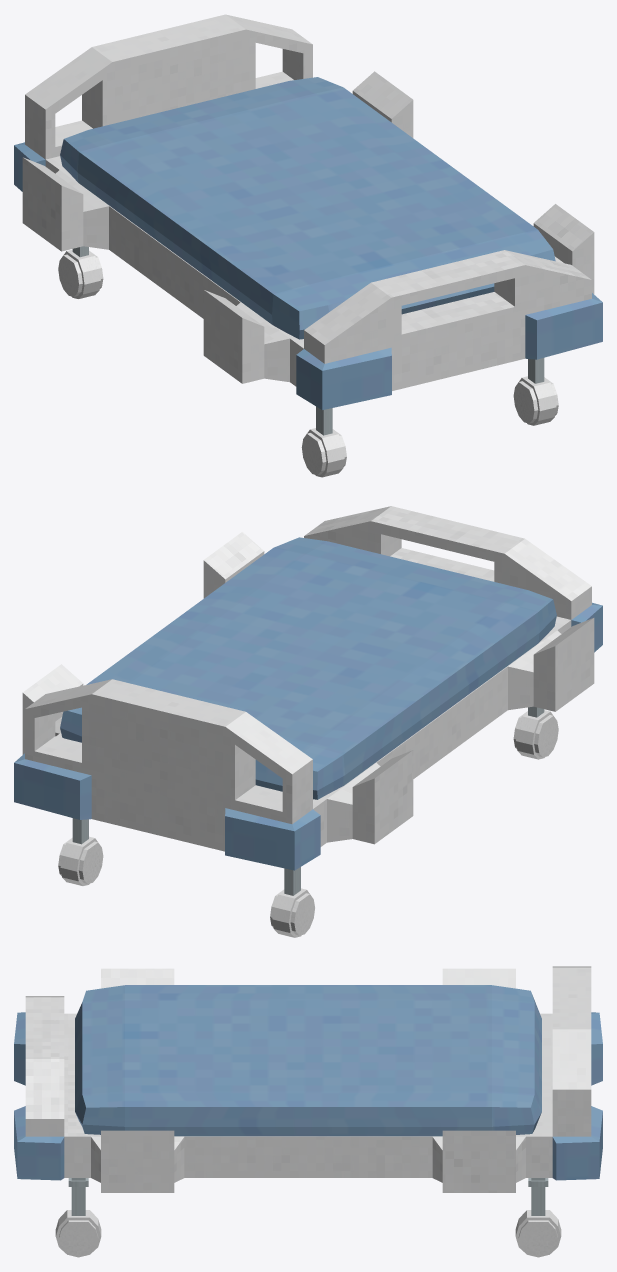
The model's file is HospitalBed.fbx.
3 renders of one model, top to bottom at view 1: azimuth 30°, elevation 25°; view 2: azimuth 150°, elevation 25°; view 3: azimuth 270°, elevation 25°, orthographic. The views are drawn at different scales.
Visible parts, largest first — view 1: HospitalBedBlue, Cube.004, Cylinder.049; view 2: HospitalBedBlue, Cube.004, Cylinder.049; view 3: Cube.004, HospitalBedBlue, Cylinder.049.
Boxes of the visible parts, x1,y1,x2,y2 form: HospitalBedBlue: [14, 14, 602, 409]; Cube.004: [60, 77, 555, 339]; Cylinder.049: [58, 246, 558, 477]; HospitalBedBlue: [14, 506, 602, 870]; Cube.004: [60, 537, 556, 799]; Cylinder.049: [58, 706, 558, 937]; Cube.004: [75, 985, 541, 1136]; HospitalBedBlue: [14, 966, 602, 1192]; Cylinder.049: [55, 1178, 561, 1257].
Size of the model in its own units: 1180 by 700 by 1811.
